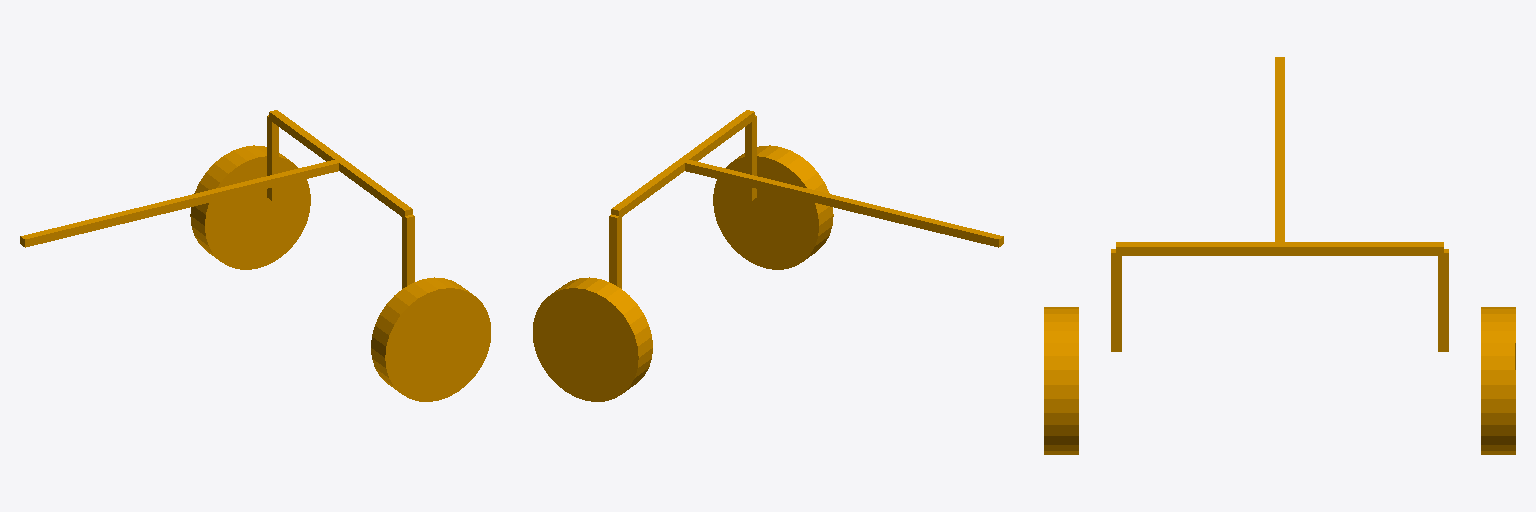
robot.urdf — robot:
<?xml version="1.0" encoding="utf-8"?>
<!-- =================================================================================== -->
<!-- |    This document was autogenerated by xacro from robot.xacro                    | -->
<!-- |    EDITING THIS FILE BY HAND IS NOT RECOMMENDED                                 | -->
<!-- =================================================================================== -->
<robot name="robot" xmlns:xacro="http://www.ros.org/wiki/xacro">
  <link name="chassis">
    <pose>0 0 0.201784 0 0 0</pose>
    <inertial>
      <mass value="10.0"/>
      <origin rpy=" 0 0 0" xyz="0 0 0.201784"/>
      <inertia ixx="1.0" ixy="0" ixz="0" iyy="1.0" iyz="0" izz="1.0"/>
    </inertial>
    <collision name="collision">
      <geometry>
        <box size="0.406054 0.406054 0.10"/>
      </geometry>
    </collision>
    <visual name="os">
      <origin rpy="0 0 -3.14" xyz="0 0 0"/>
      <geometry>
        <!-- <box size="0.01 0.406054  0.01"/> -->
        <mesh filename="package://robot_sim/meshes/wheelchair_chasis.stl" scale="0.01 0.01 0.01"/>
      </geometry>
    </visual>
    <visual name="os1">
      <origin rpy=" 0 0 0" xyz="0.201784 0 0.201784"/>
      <geometry>
        <box size="0.406054 0.01 0.01"/>
      </geometry>
    </visual>
    <visual name="osnova.001">
      <origin rpy="0 0 0" xyz="0.406054 0 0.201784"/>
      <geometry>
        <box size="0.01 0.3 0.01"/>
      </geometry>
    </visual>
    <visual name="osnova.002">
      <origin rpy="0 0 0" xyz="0.406054 0.15 0.15"/>
      <geometry>
        <box size="0.01 0.01 0.10"/>
      </geometry>
    </visual>
    <visual name="osnova.003">
      <origin rpy="0 0 0" xyz="0.406054 -0.15 0.15"/>
      <geometry>
        <box size="0.01 0.01 0.10"/>
      </geometry>
    </visual>
    <visual name="front_left_wheel_visual">
      <origin rpy="0 1.5707 1.5707" xyz="0.406054 0.20 0.068"/>
      <geometry>
        <!-- <mesh filename="package://robot_sim/meshes/wheelchair_wheel.stl" scale="0.01 0.01 0.01"/> -->
        <cylinder length="0.032" radius="0.068"/>
      </geometry>
    </visual>
    <visual name="front_left_wheel_visual">
      <origin rpy="0 1.5707 1.5707" xyz="0.406054 -0.20 0.068"/>
      <geometry>
        <!-- <mesh filename="package://robot_sim/meshes/wheelchair_wheel.stl" scale="0.01 0.01 0.01"/> -->
        <cylinder length="0.032" radius="0.068"/>
      </geometry>
    </visual>
    <!--
    <collision name='caster_collision'>
      <origin xyz="0.406054 0 0.201784" rpy=" 0 0 0"/>
      <geometry>
        <sphere radius="0.201784"/>
      </geometry>
      <surface>
        <friction>
          <ode>
            <mu>0</mu>
            <mu2>0</mu2>
            <slip1>1.0</slip1>
            <slip2>1.0</slip2>
          </ode>
        </friction>
      </surface>
    </collision>


    <visual name='caster_visual'>
      <origin xyz="0.406054/2 0 0.201784" rpy=" 0 0 0"/>
      <geometry>
        <sphere radius="0.201784"/>
      </geometry>
    </visual>-->
  </link>
  <link name="left_wheel">
    <collision name="collision">
      <origin rpy="0 1.5707 1.5707" xyz="0 0 0"/>
      <geometry>
        <cylinder length="0.0356884" radius="0.201784"/>
      </geometry>
    </collision>
    <visual name="left_wheel_visual">
      <origin rpy="0 1.5707 1.5707" xyz="0 0 0"/>
      <geometry>
        <mesh filename="package://robot_sim/meshes/wheelchair_wheel.stl" scale="0.01 0.01 0.01"/>
        <!-- <cylinder radius="0.201784" length="0.0356884"/> -->
      </geometry>
    </visual>
    <inertial>
      <origin rpy="0 1.5707 1.5707" xyz="0 0 0.201784"/>
      <mass value="0.5"/>
      <cylinder_inertia h="0.0356884" m="0.5" r="0.201784"/>
      <inertia ixx="0.1" ixy="0.0" ixz="0.0" iyy="0.1" iyz="0.0" izz="0.1"/>
    </inertial>
  </link>
  <link name="right_wheel">
    <collision name="collision">
      <origin rpy="0 1.5707 -1.5707" xyz="0 0 0"/>
      <geometry>
        <cylinder length="0.0356884" radius="0.201784"/>
      </geometry>
    </collision>
    <visual name="right_wheel_visual">
      <origin rpy="0 1.5707 -1.5707" xyz="0 0 0"/>
      <geometry>
        <!-- <cylinder radius="0.201784" length="0.0356884"/> -->
        <mesh filename="package://robot_sim/meshes/wheelchair_wheel.stl" scale="0.01 0.01 0.01"/>
      </geometry>
    </visual>
    <inertial>
      <origin rpy="0 1.5707 1.5707" xyz="0 0 0.201784"/>
      <mass value="0.5"/>
      <cylinder_inertia h="0.0356884" m="0.5" r="0.201784"/>
      <inertia ixx="0.1" ixy="0.0" ixz="0.0" iyy="0.1" iyz="0.0" izz="0.1"/>
    </inertial>
  </link>
  <joint name="left_wheel_hinge" type="continuous">
    <origin rpy="0 0 0" xyz="0 0.19 0.201784"/>
    <child link="left_wheel"/>
    <parent link="chassis"/>
    <axis rpy="0 0 0" xyz="0 1 0"/>
    <limit effort="100" velocity="100"/>
    <joint_properties damping="0.0" friction="0.0"/>
  </joint>
  <joint name="right_wheel_hinge" type="continuous">
    <origin rpy="0 0 0" xyz="0 -0.19 0.201784"/>
    <child link="right_wheel"/>
    <parent link="chassis"/>
    <axis rpy="0 0 0" xyz="0 1 0"/>
    <limit effort="100" velocity="100"/>
    <joint_properties damping="0.0" friction="0.0"/>
  </joint>
  <gazebo>
    <plugin filename="libgazebo_ros_diff_drive.so" name="differential_drive_controller">
      <legacyMode>false</legacyMode>
      <alwaysOn>true</alwaysOn>
      <updateRate>20</updateRate>
      <leftJoint>left_wheel_hinge</leftJoint>
      <rightJoint>right_wheel_hinge</rightJoint>
      <wheelSeparation>0.4</wheelSeparation>
      <wheelDiameter>0.1</wheelDiameter>
      <torque>20</torque>
      <commandTopic>cmd_vel</commandTopic>
      <odometryTopic>odom</odometryTopic>
      <odometryFrame>odom</odometryFrame>
      <robotBaseFrame>chassis</robotBaseFrame>
    </plugin>
  </gazebo>
  <gazebo reference="chassis">
    <material name="green">
      <color rgba="0.0 0.8 0.0 1.0"/>
    </material>
  </gazebo>
</robot>

--- Facts derived from the render (not from the file) ---
The picture shows the robot from 3 angles, left to right: view 1: azimuth 30°, elevation 25°; view 2: azimuth 150°, elevation 25°; view 3: azimuth 270°, elevation 25°; orthographic projection.
Model robot with 3 links and 2 joints (2 continuous), rooted at chassis, posed every joint at zero.
Links seen in each view (by area): view 1: chassis; view 2: chassis; view 3: chassis.
Link boxes in pixels (bbox=[...]): chassis: bbox=[20, 110, 490, 401]; chassis: bbox=[533, 110, 1003, 401]; chassis: bbox=[1044, 57, 1515, 454].
Bounding box of the posed robot: 0.4753 × 0.432 × 0.2068 m (x, y, z).
0 mesh visuals loaded from 2 distinct referenced files (none loaded); not drawn: 3 (reference not matched to a file when rendering).
